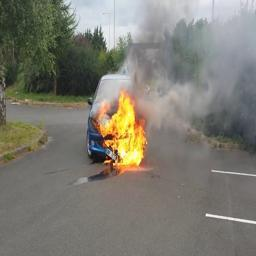fire: (94, 91, 148, 168)
